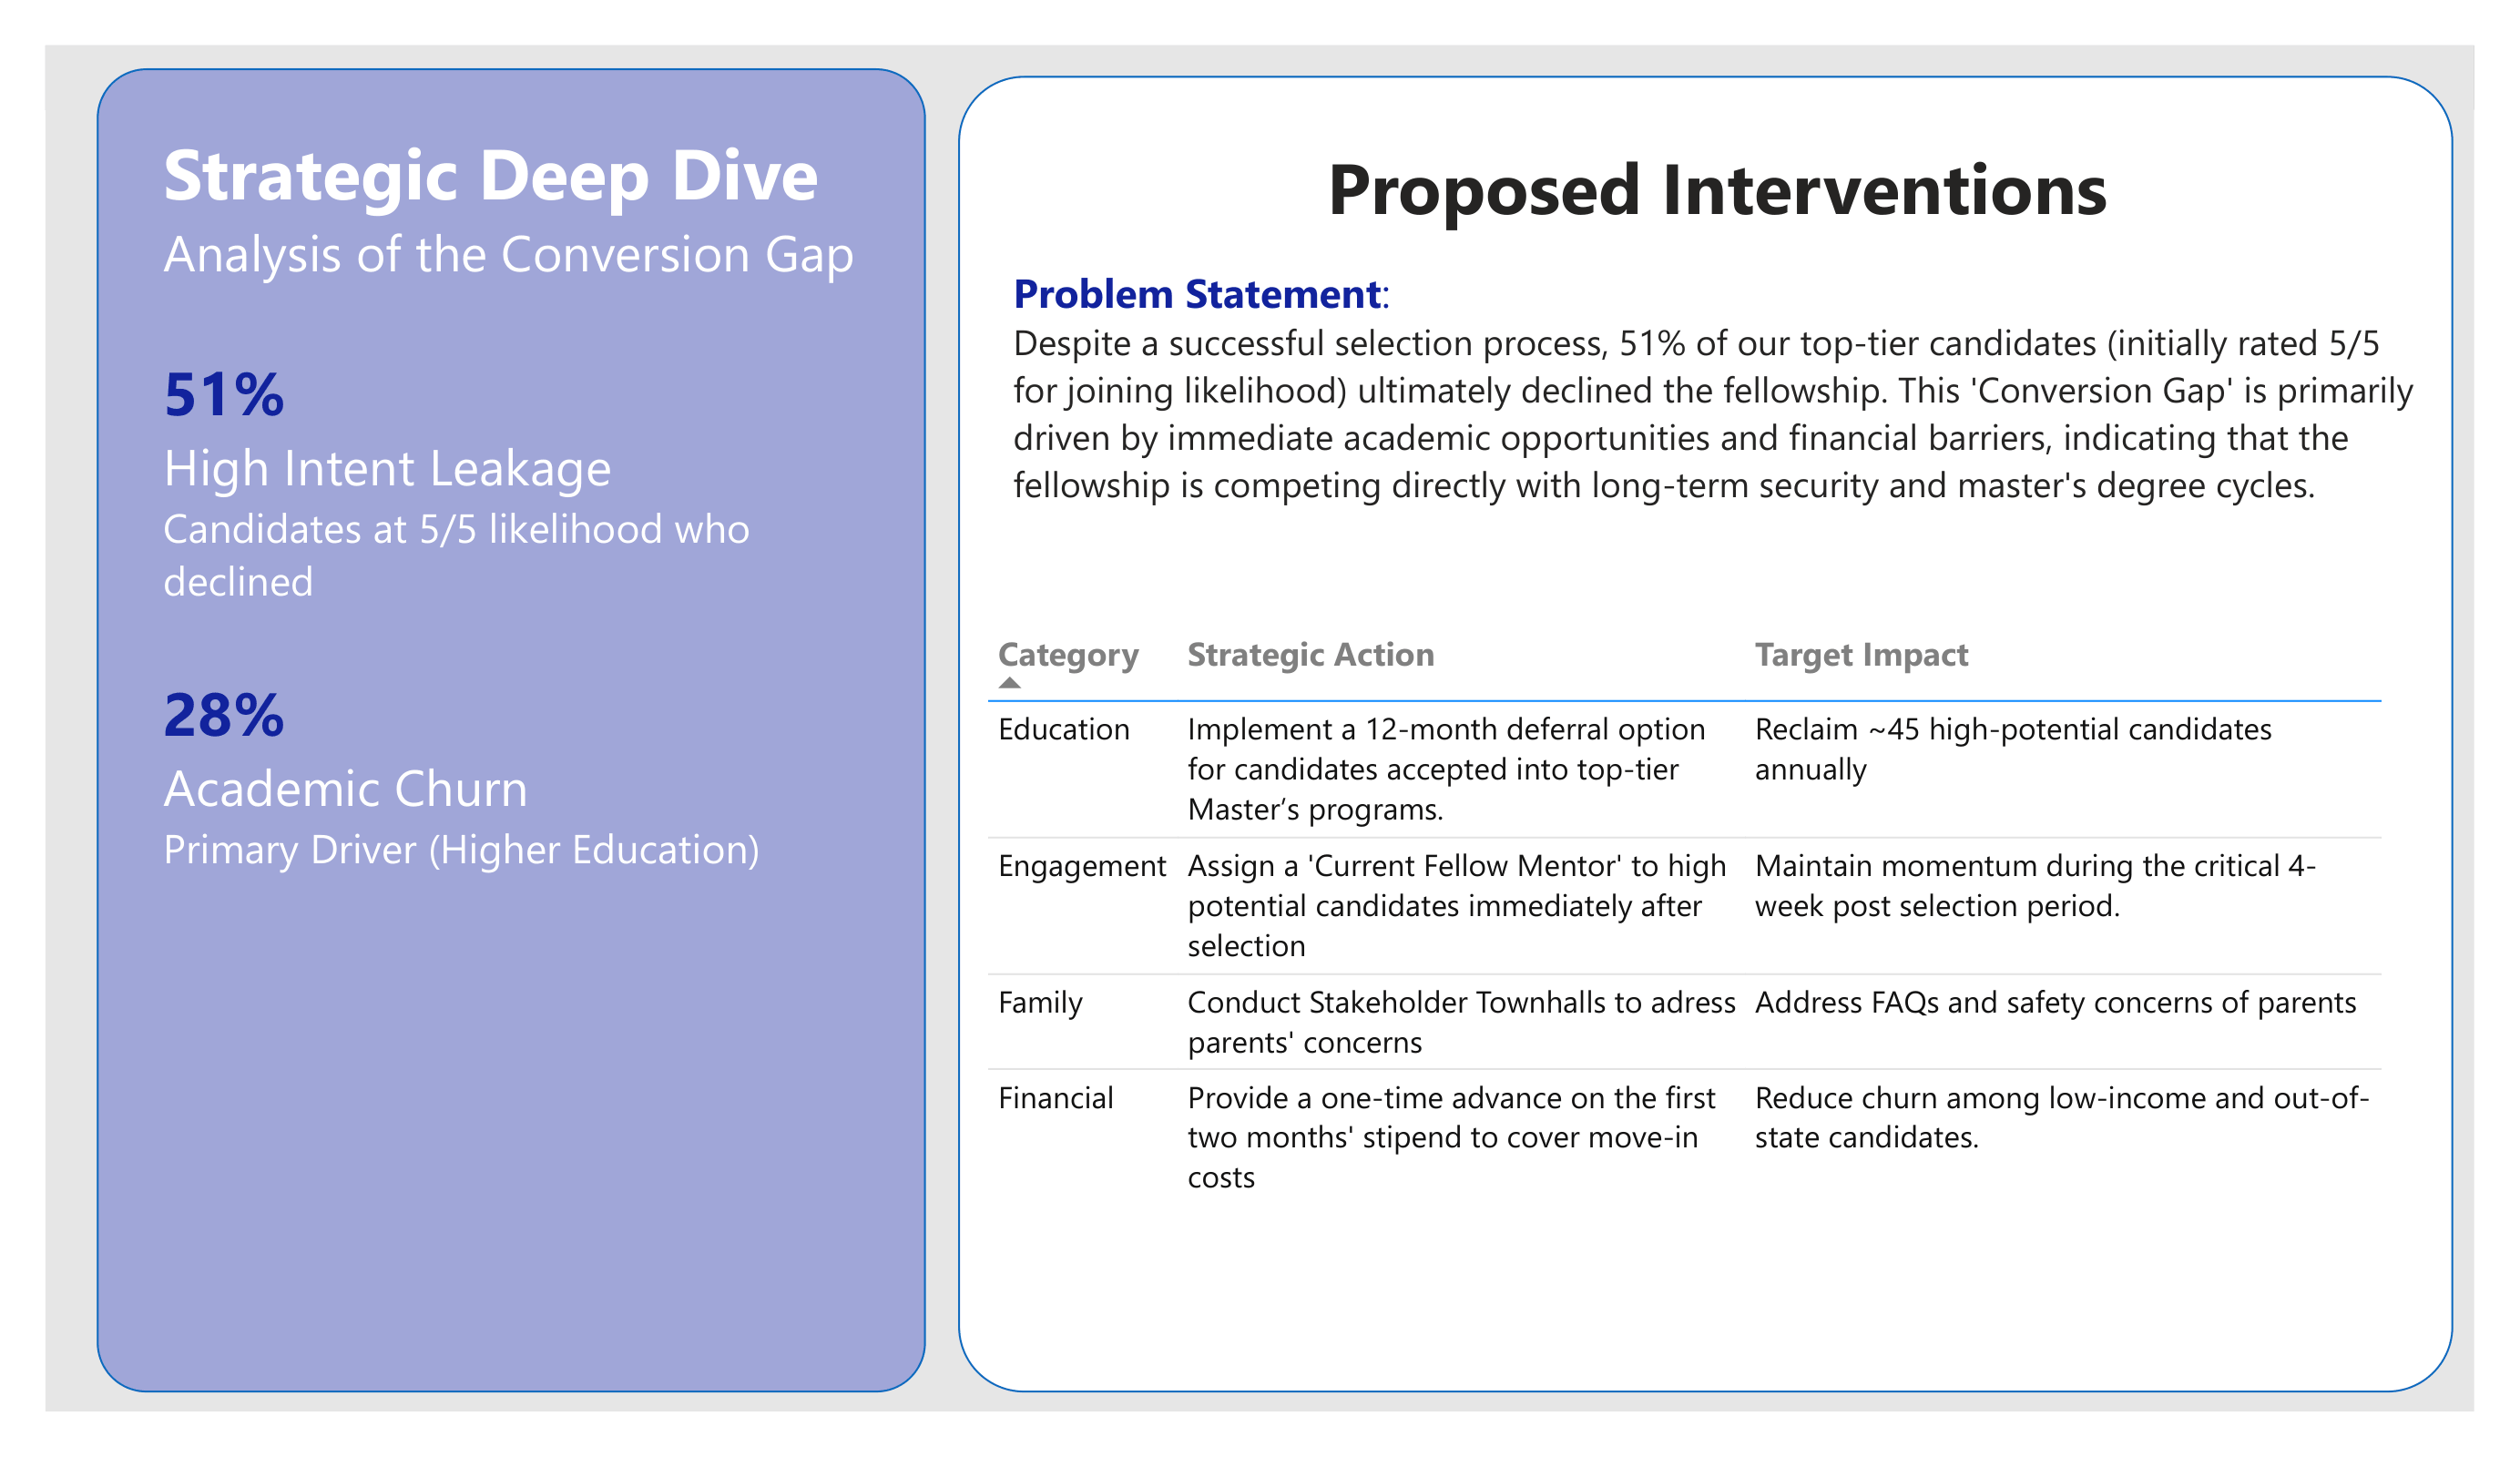

The dashboard page shown, as its layout file describes it:
{"tool":"powerbi","page":{"name":"Strategic Insights","canvas":[1280,720],"ordinal":2},"visuals":[{"type":"shape","box":[26.5,11.9,437.3,698.3],"z":0},{"type":"shape","box":[480.8,15.6,788.3,694.6],"z":1000},{"type":"textbox","box":[57,36,377.9,650],"z":2000},{"type":"textbox","box":[504.7,44.2,752.3,255.8],"z":3000},{"type":"tableEx","fields":{"Values":["Action Table.Category","Action Table.Strategic Action","Action Table.Tarrget Impact"]},"box":[490.7,300,766.3,341.9],"z":4000}]}

Visuals, with their boxes on the page's 1280x720 design canvas (x1, y1, x2, y2). These are canvas units, not pixel positions in the 2520x1457 screenshot, which may show the page scaled, cropped or inside an application window:
shape: [26, 12, 464, 710]
shape: [481, 16, 1269, 710]
textbox: [57, 36, 435, 686]
textbox: [505, 44, 1257, 300]
tableEx - Action Table.Category x Action Table.Strategic Action: [491, 300, 1257, 642]
